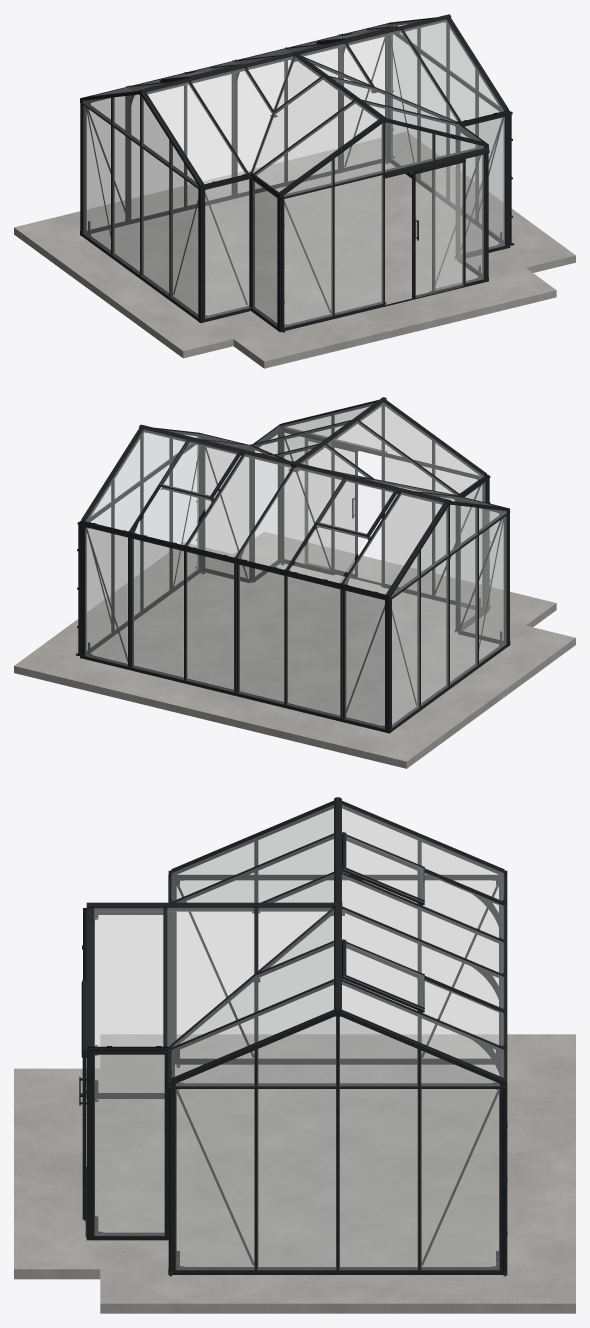
Rendered from scandiglas-tshape-sv.glb.
The picture shows the model from 3 angles, top to bottom: view 1: azimuth 30°, elevation 25°; view 2: azimuth 150°, elevation 25°; view 3: azimuth 270°, elevation 25°; orthographic projection. The views are drawn at different scales.
Visible parts, largest first — view 1: scandiglas-tshape; view 2: scandiglas-tshape; view 3: scandiglas-tshape.
Part boxes in pixels (box(x1,y1,x2,y2)): scandiglas-tshape: box(14, 14, 575, 368); scandiglas-tshape: box(14, 397, 575, 768); scandiglas-tshape: box(14, 797, 575, 1313).
Size of the model in its own units: 5.83 by 2.78 by 5.14.
4 materials, 1 textured.
